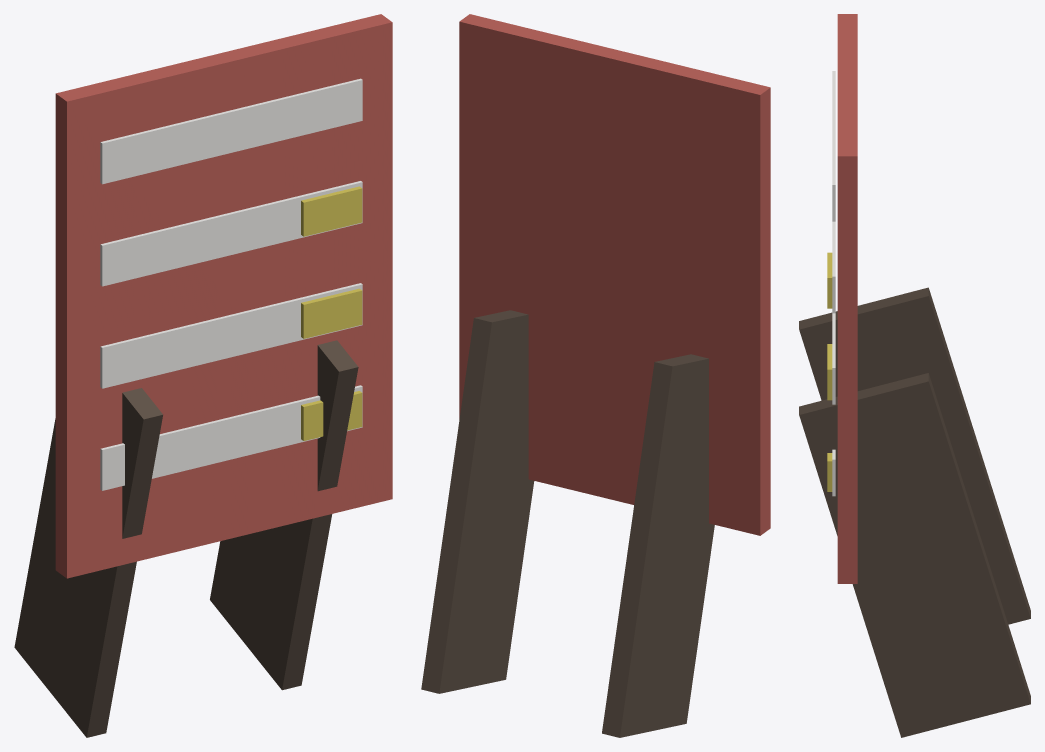
The model's file is prop_tate_price_b.glb.
The picture shows the model from 3 angles, left to right: view 1: azimuth 30°, elevation 25°; view 2: azimuth 150°, elevation 25°; view 3: azimuth 270°, elevation 25°; orthographic projection. The views are drawn at different scales.
Visible parts, largest first — view 1: tate_price_b; view 2: tate_price_b; view 3: tate_price_b.
Part boxes in pixels (<box>): tate_price_b: <box>14,14,392,737</box>; tate_price_b: <box>421,14,770,737</box>; tate_price_b: <box>799,14,1030,737</box>.
Bounding box in the file's own units: 1 × 1.98 × 0.6877.
